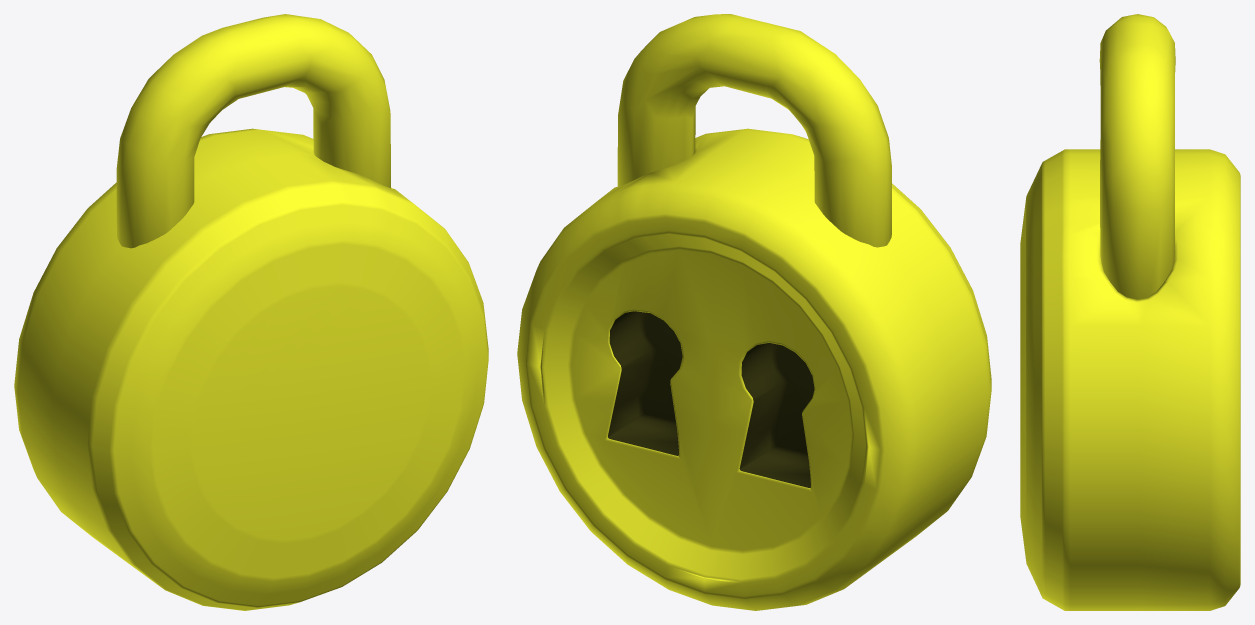
The model's file is Lock2.fbx.
3 views of the same model, side by side, from view 1: azimuth 30°, elevation 25°; view 2: azimuth 150°, elevation 25°; view 3: azimuth 270°, elevation 25° (orthographic).
Visible parts, largest first — view 1: lock_02, closure_03; view 2: lock_02, closure_03, lock_02.002, lock_02.001; view 3: lock_02, closure_03.
Boxes of the visible parts, x1,y1,x2,y2 form: lock_02: [14, 128, 488, 610]; closure_03: [116, 14, 390, 248]; lock_02: [517, 128, 991, 610]; closure_03: [617, 14, 891, 247]; lock_02.002: [608, 311, 682, 455]; lock_02.001: [739, 343, 814, 487]; lock_02: [1020, 149, 1240, 610]; closure_03: [1099, 14, 1175, 299].
Bounding box in the file's own units: 361 × 479 × 172.
